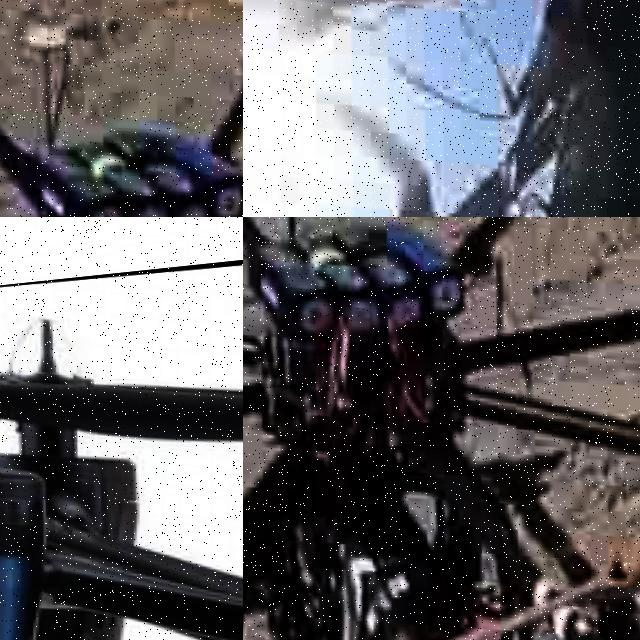0: (243, 217, 640, 640), (243, 0, 640, 217), (0, 0, 243, 217)
drone: (0, 229, 243, 640)
